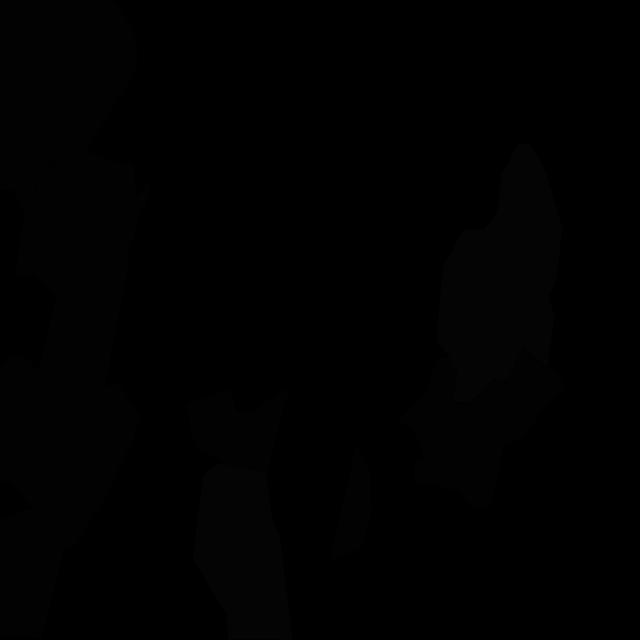cardboard: (0, 0, 150, 248), (0, 355, 142, 550), (15, 159, 129, 400), (397, 347, 565, 510), (188, 386, 290, 472), (0, 508, 64, 639), (329, 443, 372, 563)
soft_plastic: (436, 143, 562, 403), (193, 464, 292, 640)
